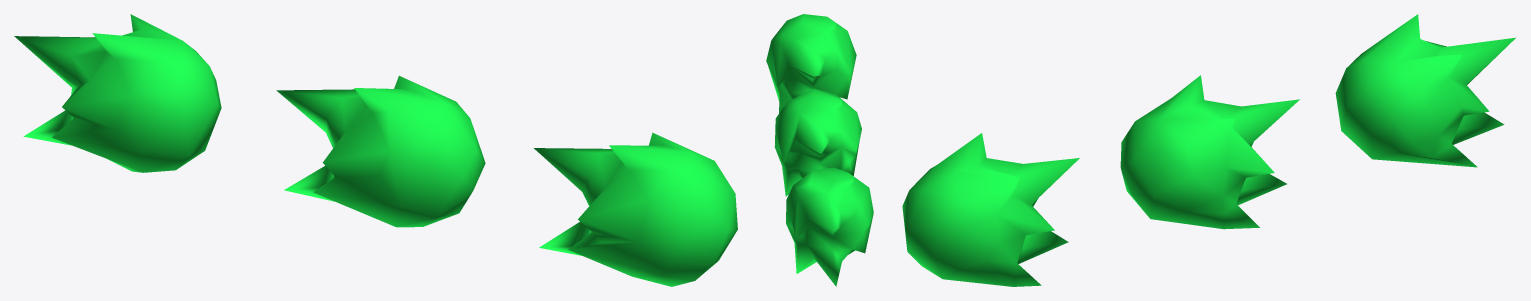
The model's file is PW Cadencia.obj.
3 views of the same model, side by side, from view 1: azimuth 30°, elevation 25°; view 2: azimuth 150°, elevation 25°; view 3: azimuth 270°, elevation 25° (orthographic). The views are drawn at different scales.
Parts seen in each view (by area): view 1: Power_up_dispersión_1; view 2: Power_up_dispersión_1; view 3: Power_up_dispersión_1.
Boxes of the visible parts, x1=… form: Power_up_dispersión_1: x1=14, y1=14, x2=737, y2=286; Power_up_dispersión_1: x1=766, y1=14, x2=873, y2=286; Power_up_dispersión_1: x1=902, y1=14, x2=1515, y2=286.
Size of the model in its own units: 1.39 by 0.4659 by 2.02.
Materials: 1 (1 with a texture image).
